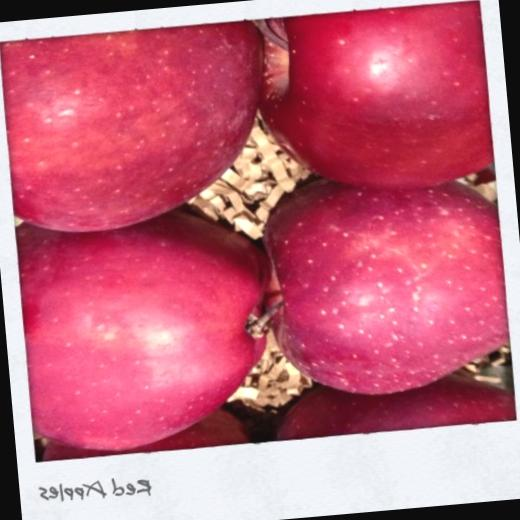Apple: (13, 198, 282, 460), (233, 163, 511, 407), (0, 14, 278, 237), (249, 0, 493, 200), (271, 368, 520, 440), (38, 403, 251, 461)
